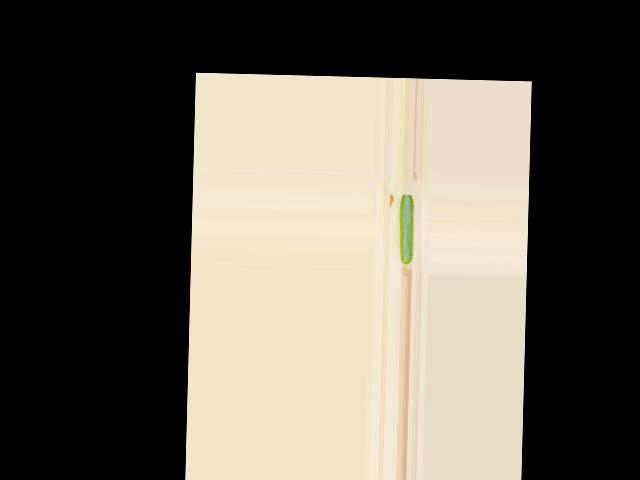cucumber: (398, 195, 414, 264)
